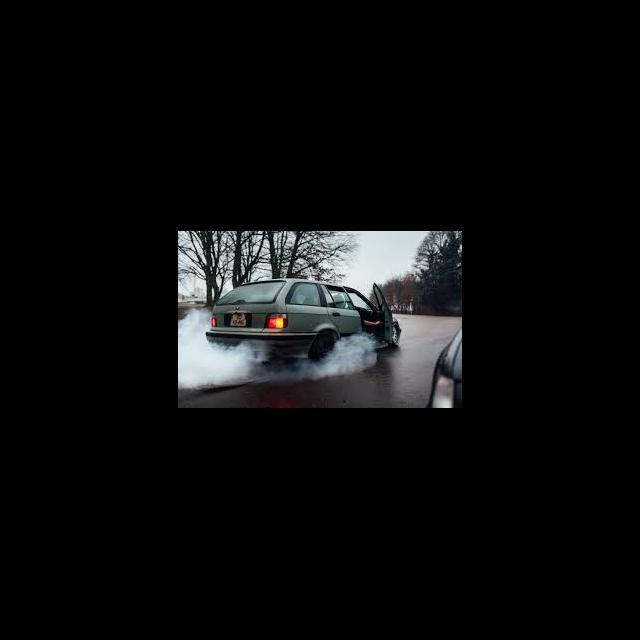Smoke: (179, 302, 250, 393), (297, 331, 379, 384)
